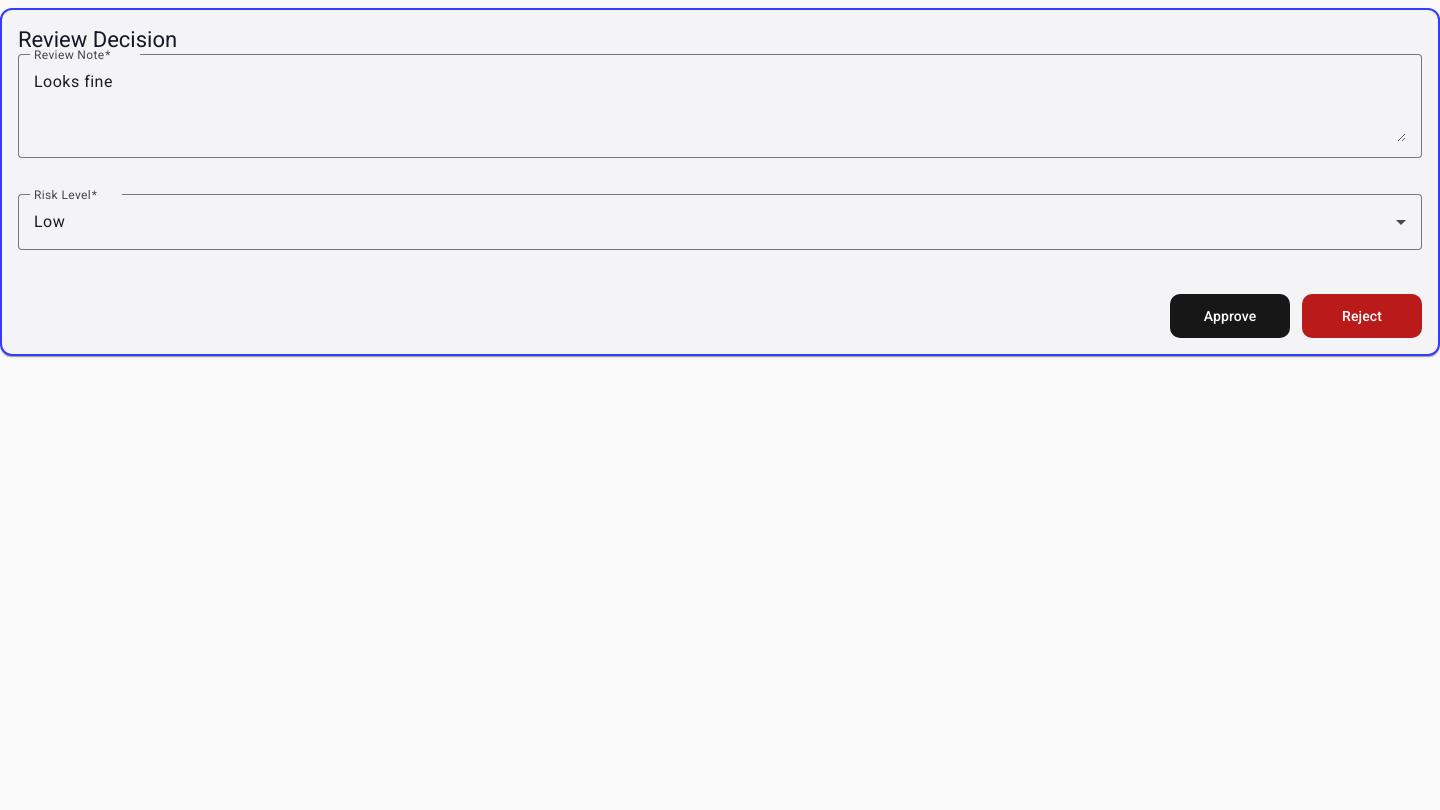
Scenario: ReviewPanelComponent › asks inline before approving and sends nothing yet
Click the button "Approve" at point(1230, 316), box x1=1170 y1=294 x2=1290 y2=338
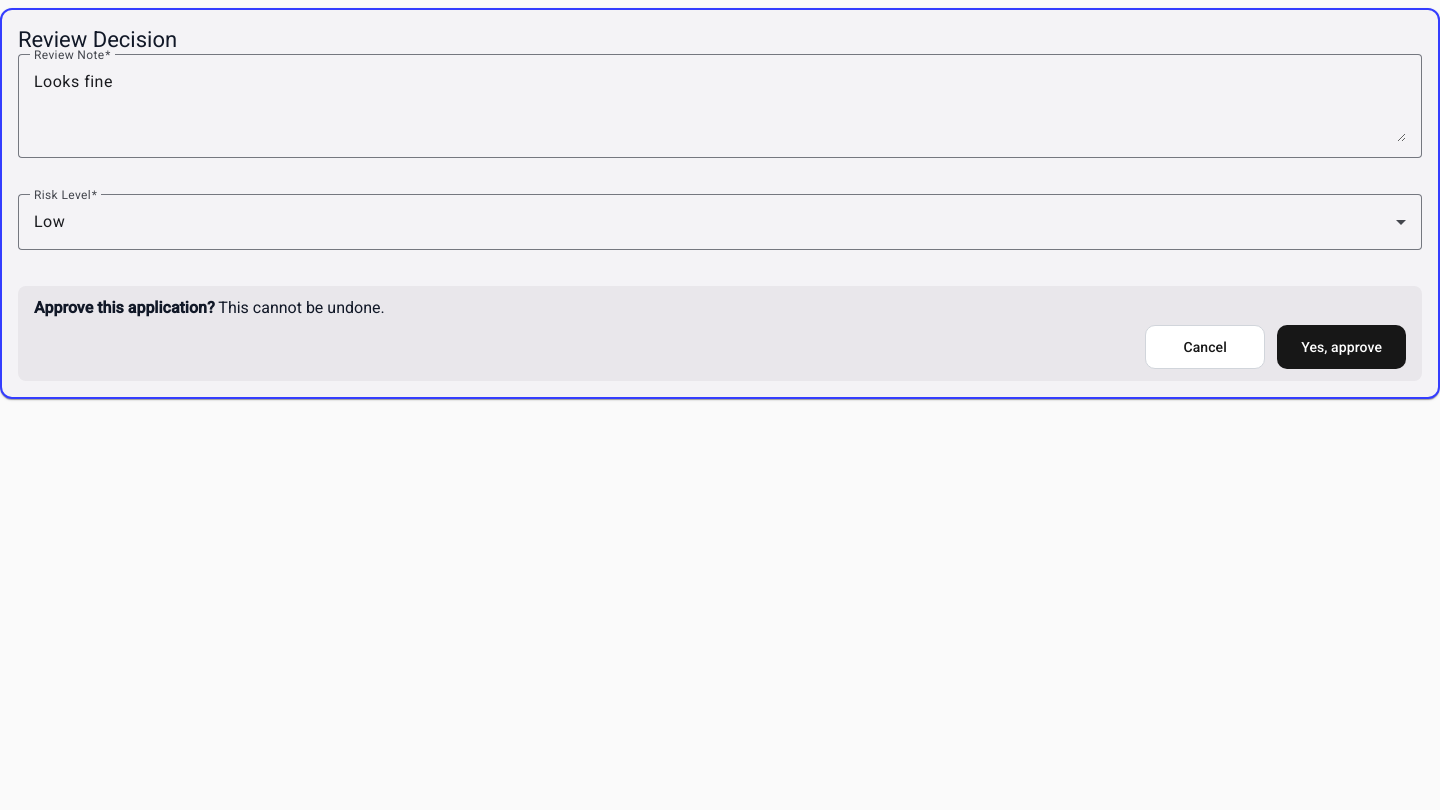
Now the text "Approve this application?" is shown, box x1=34 y1=298 x2=215 y2=317
